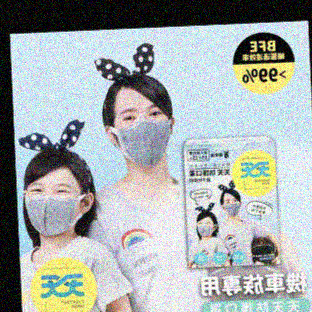with_mask: (113, 102, 171, 167), (24, 179, 80, 237)
